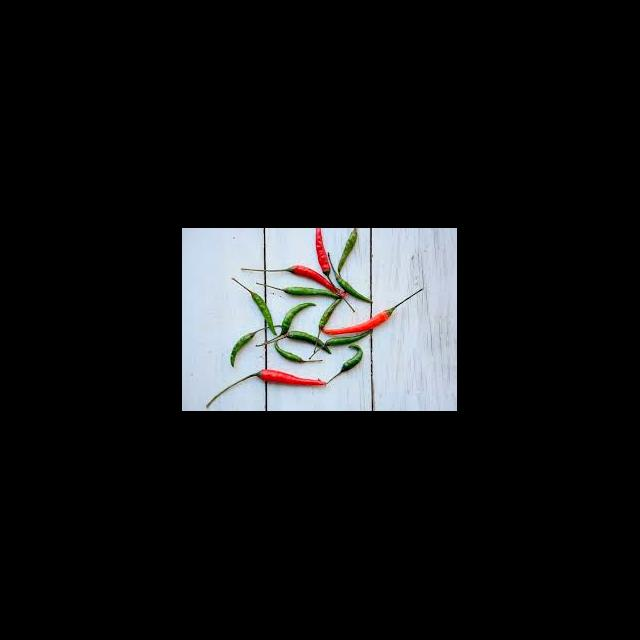chili_pepper: (290, 266, 356, 300), (255, 369, 328, 394), (337, 230, 368, 276), (249, 290, 279, 336), (227, 329, 257, 369), (281, 301, 318, 332), (339, 346, 367, 381), (314, 228, 332, 274), (274, 344, 311, 366), (284, 286, 334, 294)
